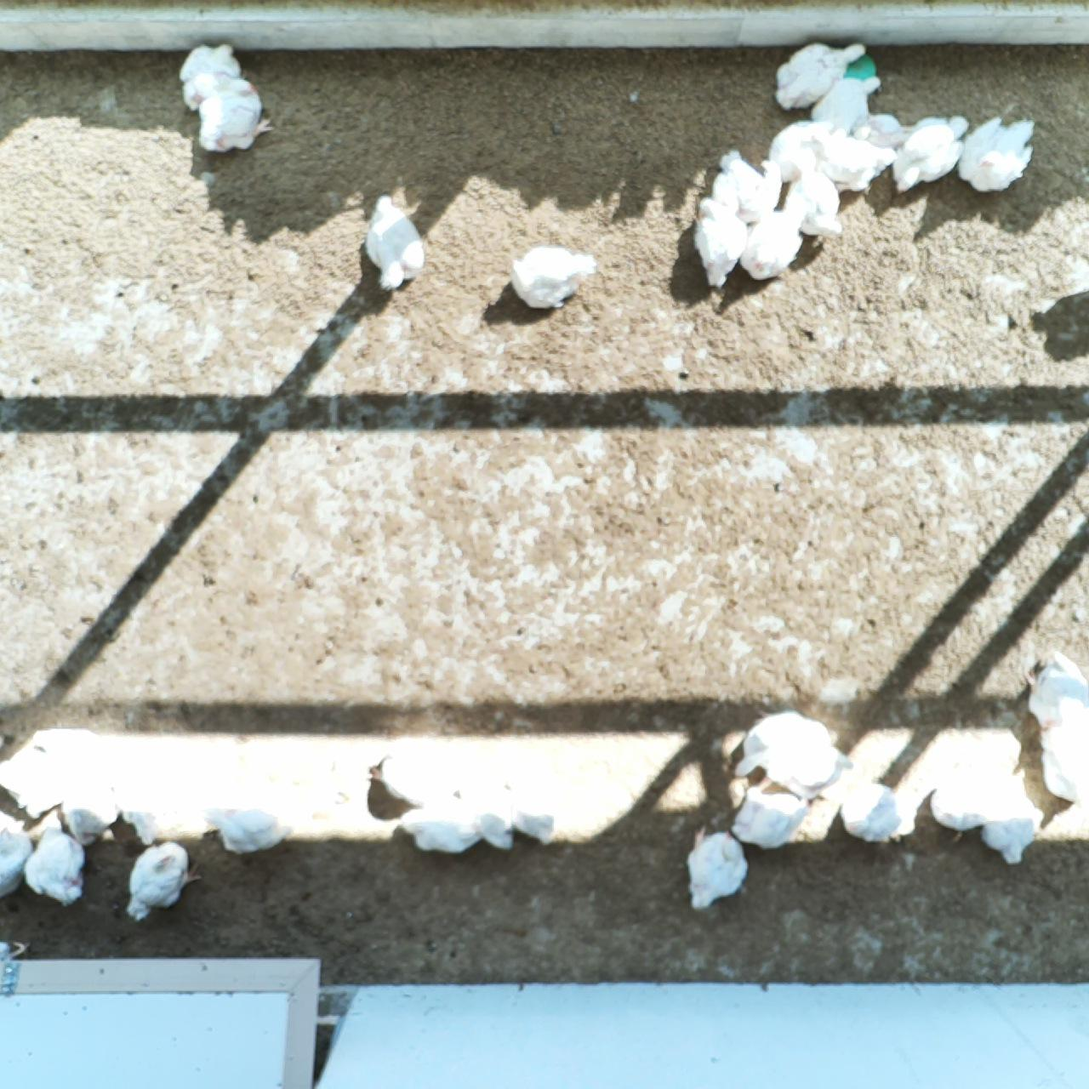chicken: (925, 723, 1013, 840), (725, 705, 832, 788), (954, 111, 1038, 202), (770, 35, 869, 112), (978, 767, 1048, 871), (389, 790, 492, 859), (892, 110, 973, 197), (200, 784, 299, 855), (122, 838, 205, 922), (56, 749, 124, 848), (683, 820, 751, 919), (503, 242, 598, 312), (362, 192, 428, 292), (709, 146, 788, 227), (812, 125, 900, 197), (198, 78, 277, 157), (365, 744, 470, 803), (109, 755, 177, 845), (728, 784, 815, 854), (1019, 649, 1089, 733), (22, 823, 87, 912), (691, 195, 749, 294), (736, 204, 809, 281), (838, 773, 908, 852), (1032, 715, 1089, 805), (501, 767, 566, 845), (766, 745, 854, 802), (178, 38, 243, 114), (0, 744, 66, 818), (767, 116, 832, 187), (810, 70, 885, 131), (31, 723, 117, 772), (463, 782, 520, 853), (0, 807, 36, 901), (851, 109, 915, 151)
